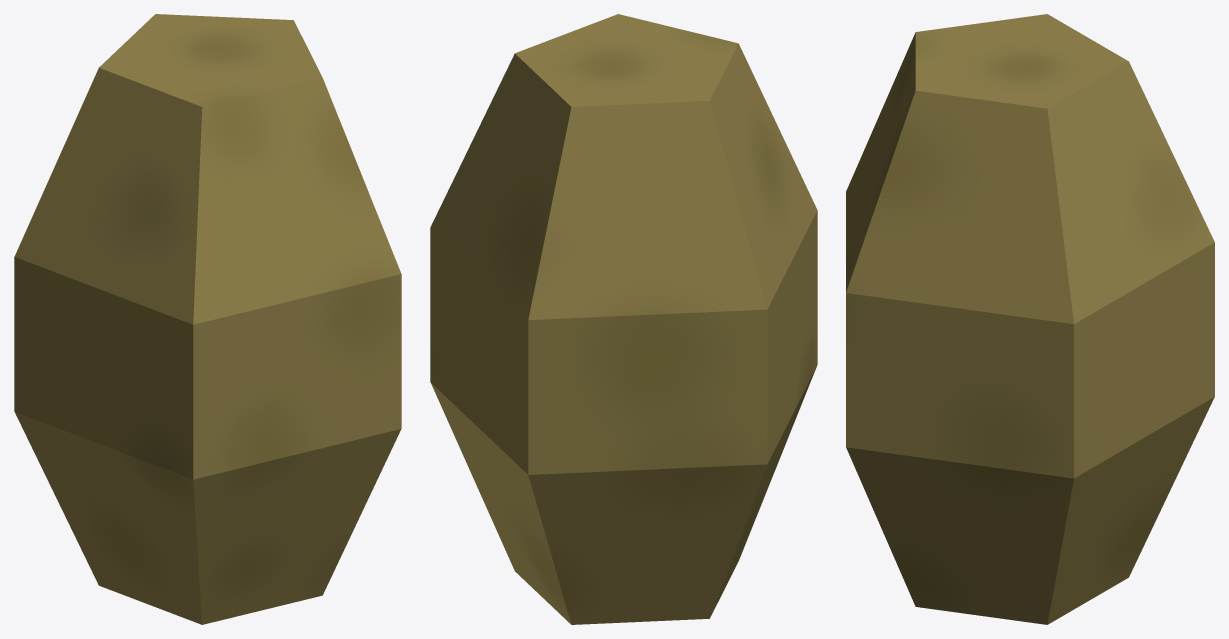
Rendered from potato.fbx.
The picture shows the model from 3 angles, left to right: view 1: azimuth 30°, elevation 25°; view 2: azimuth 150°, elevation 25°; view 3: azimuth 270°, elevation 25°; orthographic projection.
Parts seen in each view (by area): view 1: potato; view 2: potato; view 3: potato.
Boxes of the visible parts, <box> form: potato: <box>14,14,401,624</box>; potato: <box>430,14,817,624</box>; potato: <box>846,14,1214,624</box>.
Bounding box in the file's own units: 371 × 546 × 353.
